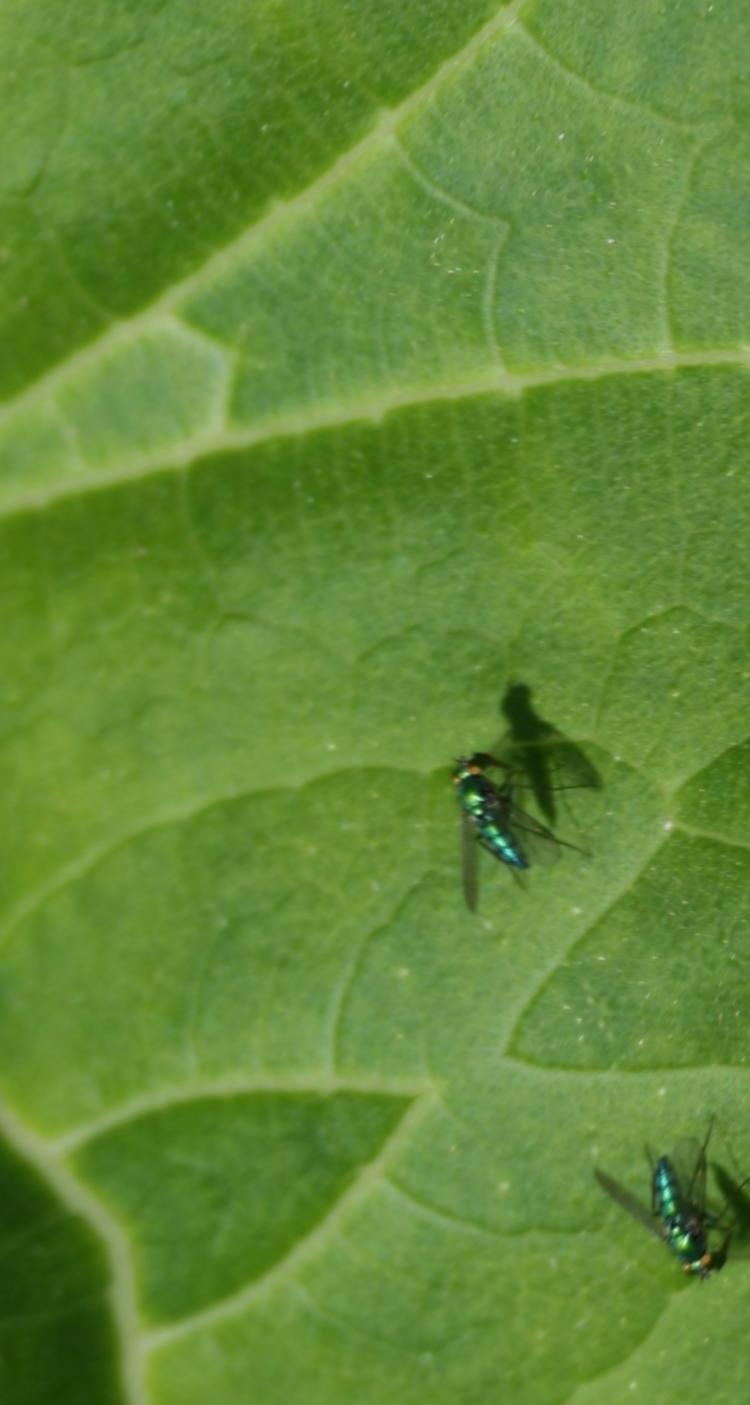Tomato leaf: (0, 63, 750, 1342)
